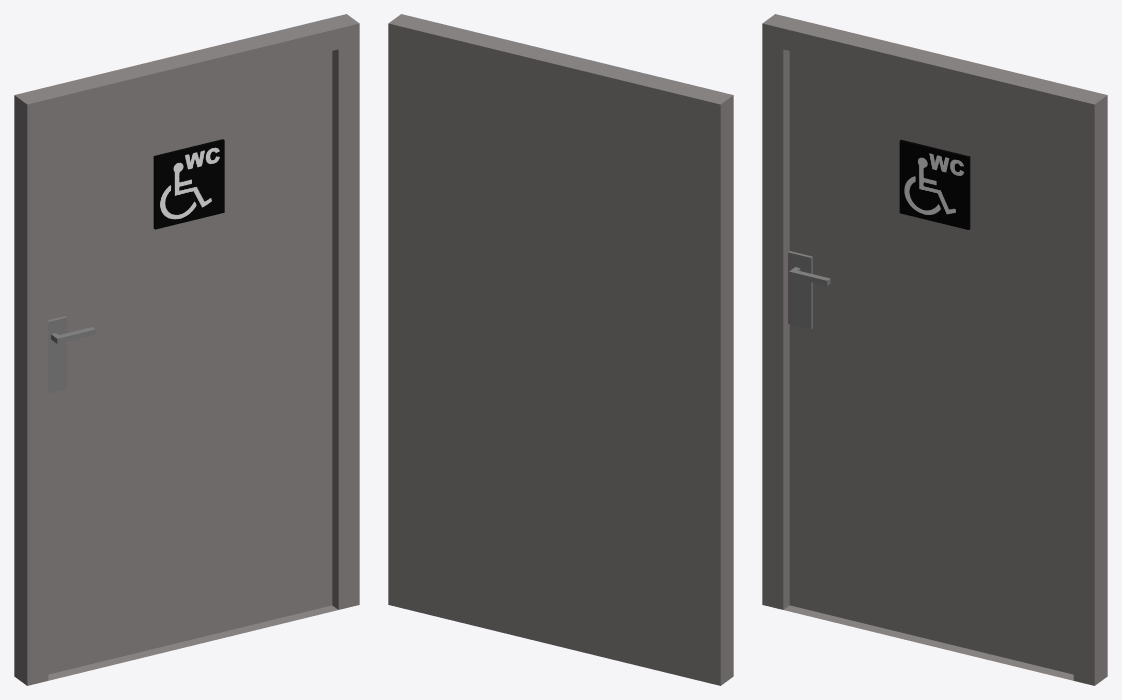
Rendered from Maintenance-door.fbx.
3 views of the same model, side by side, from view 1: azimuth 30°, elevation 25°; view 2: azimuth 150°, elevation 25°; view 3: azimuth 330°, elevation 25° (orthographic).
Visible parts, largest first — view 1: Cylinder.009; view 2: Cylinder.009; view 3: Cylinder.009.
Part boxes in pixels (<box>): Cylinder.009: <box>14,14,359,685</box>; Cylinder.009: <box>388,14,733,685</box>; Cylinder.009: <box>762,14,1107,685</box>.
Bounding box in the file's own units: 336 × 561 × 25.46.
3 materials, 1 textured.
